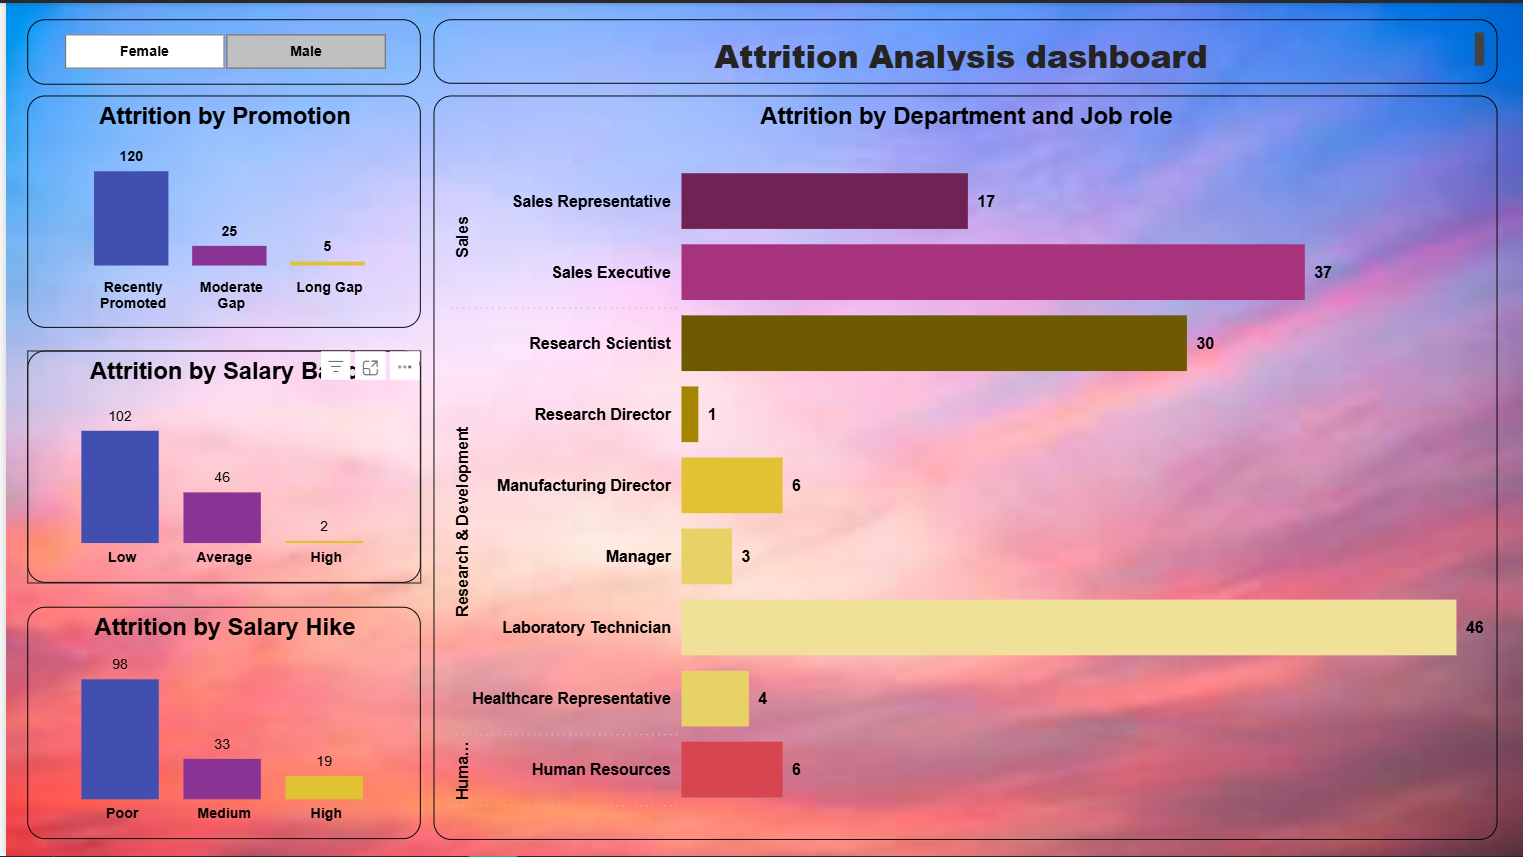

Layout of this report page (visuals, bound fields, positions):
{"tool":"powerbi","page":{"name":"Dashboard_2","canvas":[1280,720],"ordinal":1},"visuals":[{"type":"clusteredColumnChart","title":"Attrition by Promotion","fields":{"Category":["Attrition.Promotion"],"Y":["Sum(Attrition.EmployeeCount)"]},"box":[17.8,78.2,332.1,196.2],"z":0},{"type":"slicer","fields":{"Values":["Attrition.Gender"]},"box":[17.8,13.7,332.1,54.9],"z":1000},{"type":"clusteredColumnChart","title":"Attrition by Salary Band","fields":{"Category":["Attrition.Salary Band"],"Y":["CountNonNull(Attrition.EmployeeNumber)"]},"box":[17.8,293.7,332.1,196.2],"z":2000},{"type":"clusteredColumnChart","title":"Attrition by Salary Hike","fields":{"Category":["Attrition.SalaryHikeRating"],"Y":["CountNonNull(Attrition.EmployeeNumber)"]},"box":[17.8,509.1,332.1,196.2],"z":3000},{"type":"clusteredBarChart","title":"Attrition by Department and Job role","fields":{"Category":["Attrition.Department","Attrition.JobRole"],"Y":["CountNonNull(Attrition.EmployeeCount)"]},"box":[360.5,77.9,897.7,627.9],"z":4000},{"type":"textbox","box":[360.5,14,897.7,54.7],"z":5000}]}

Visuals, with their boxes in screenshot pixels (x1, y1, x2, y2), scaled from the page's 1280x720 canvas onto the 1523x857 screenshot:
"Attrition by Promotion" clusteredColumnChart: (x1=21, y1=93, x2=416, y2=327)
slicer - Attrition.Gender: (x1=21, y1=16, x2=416, y2=82)
"Attrition by Salary Band" clusteredColumnChart: (x1=21, y1=350, x2=416, y2=583)
"Attrition by Salary Hike" clusteredColumnChart: (x1=21, y1=606, x2=416, y2=840)
"Attrition by Department and Job role" clusteredBarChart: (x1=429, y1=93, x2=1497, y2=840)
textbox: (x1=429, y1=17, x2=1497, y2=82)
